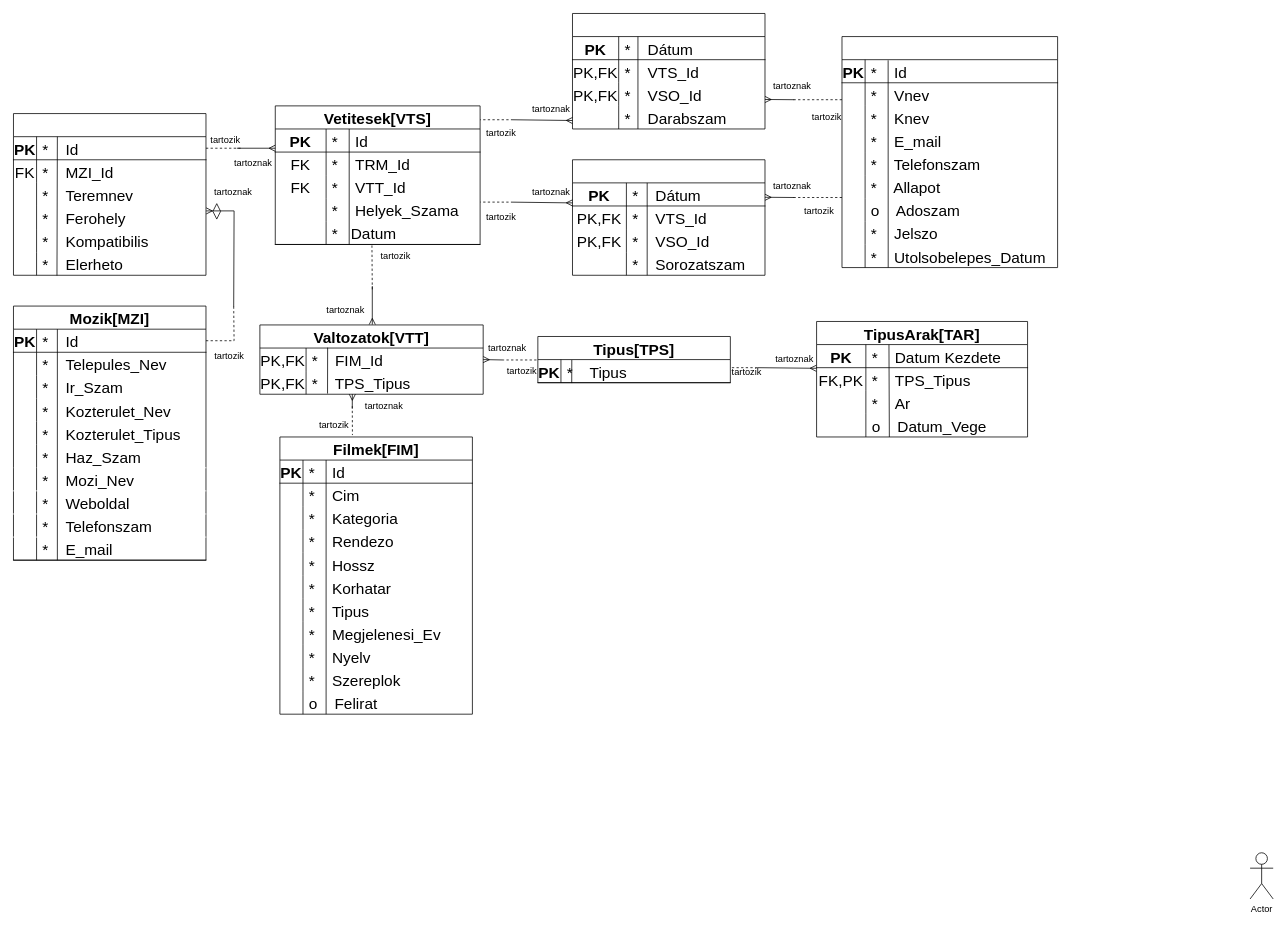
This 1287x929 diagram has some shape labels left out. The box of each missing label's shape, as (x1, y1, x2, y2) in pixels:
Ertekesitesek[ETS]: (572, 159, 765, 275)
Kosarak[KSR]: (572, 13, 765, 129)
Termek[TRM]: (13, 113, 206, 275)
Vasarlok[VSO]: (841, 36, 1058, 268)
